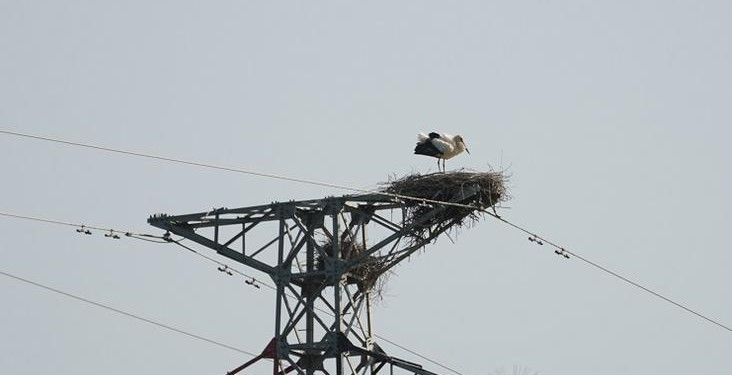niaowo: (395, 158, 512, 243)
